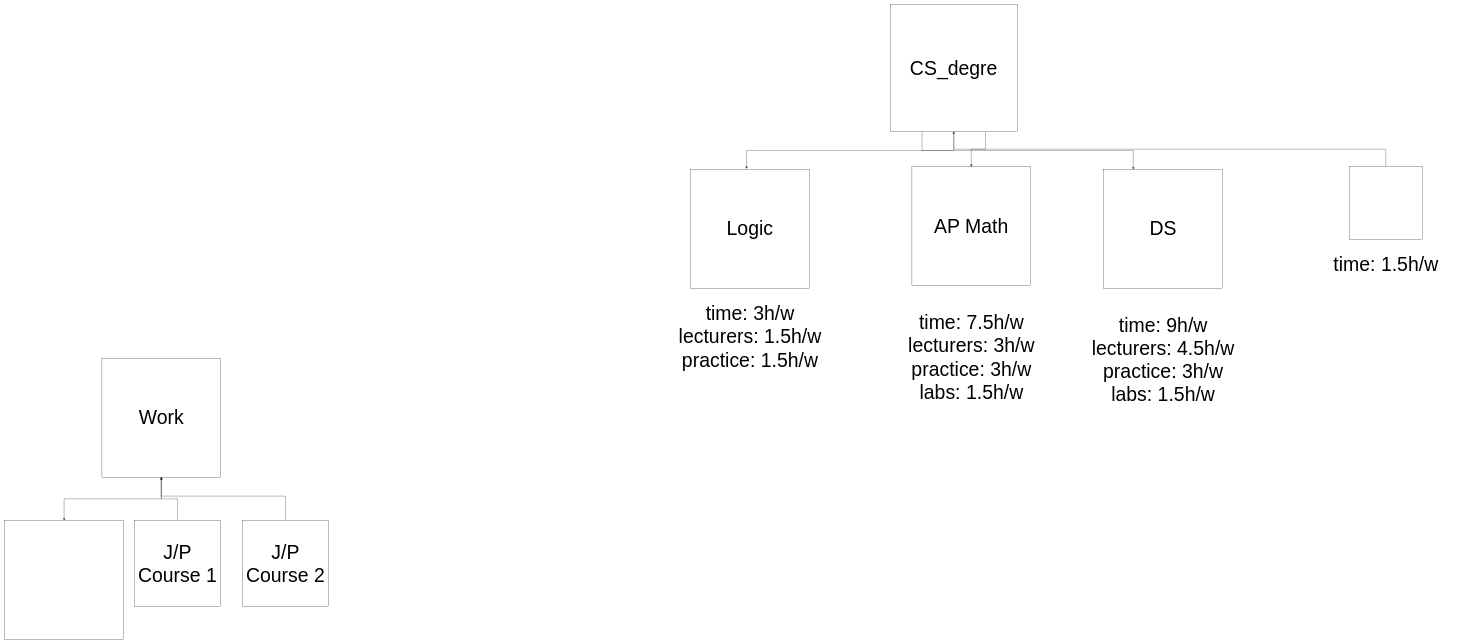
Some shapes in this 1457 by 644 pixel diagram are drawn without their labels. The shapes that lost their labels are listed below. From the top down, each one's centre as x and y in pixels, then its label:
the point at 1385,203: AI Ethics
the point at 64,579: FS Course
